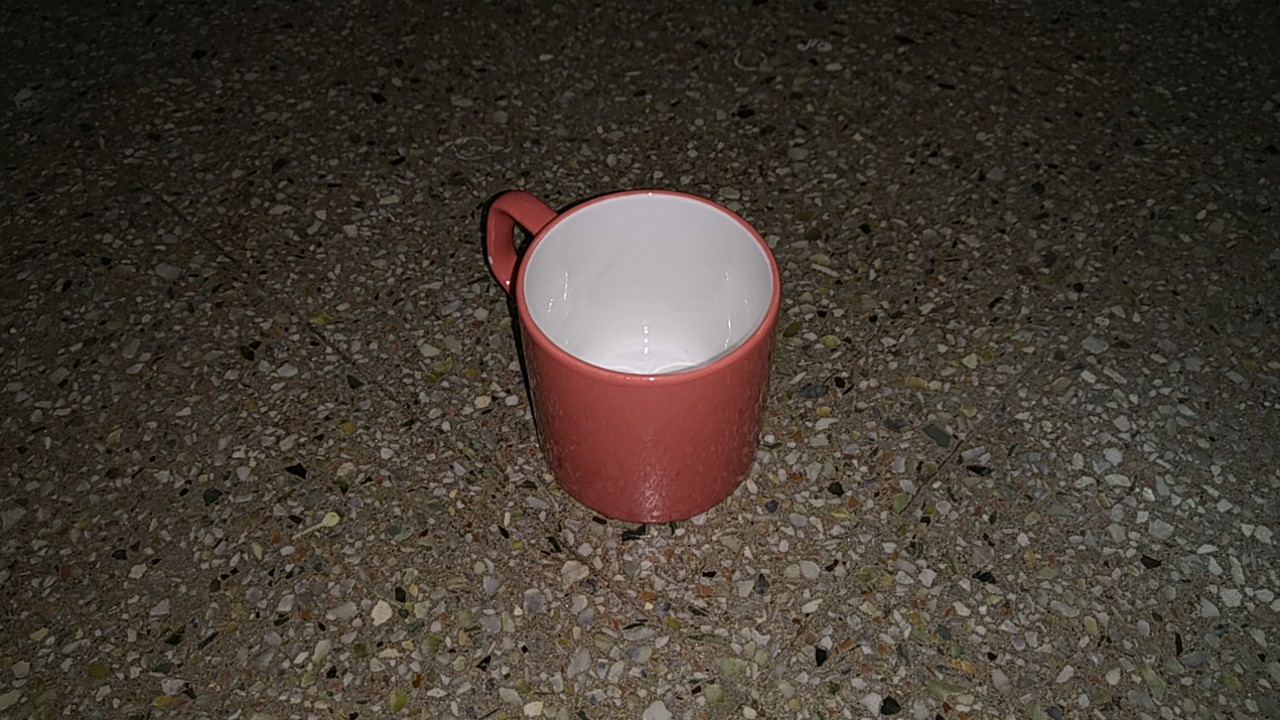cup: (459, 171, 823, 558)
